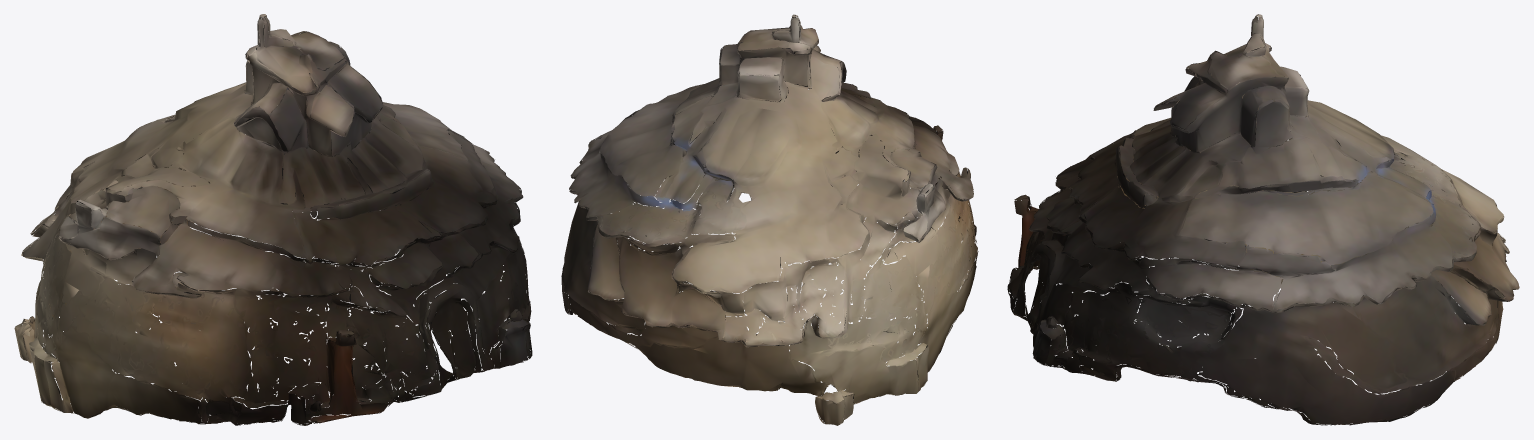
The model's file is saleucami-farmhouse.hq.glb.
3 renders of one model, left to right at view 1: azimuth 30°, elevation 25°; view 2: azimuth 150°, elevation 25°; view 3: azimuth 270°, elevation 25°, orthographic. The views are drawn at different scales.
Parts seen in each view (by area): view 1: low; view 2: low; view 3: low.
Part boxes in pixels (left/top/right/bottom): low: left=14, top=14, right=532, bottom=425; low: left=561, top=14, right=978, bottom=425; low: left=1007, top=14, right=1519, bottom=425.
Size of the model in its own units: 0.8056 by 0.6937 by 0.9007.
1 material, 1 textured.
